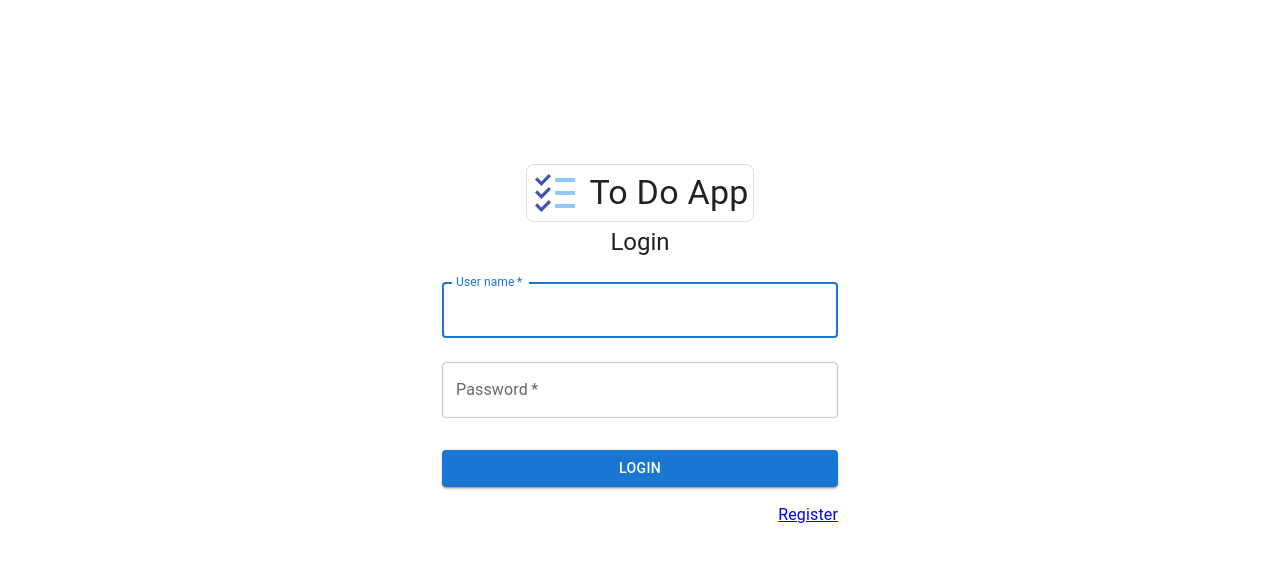
it: Login Component › should return error message when username or password is missing
The image size is (1280, 588).
Type "apassword" into the password field labelled "Password *".
click(640, 390); type("apassword")  # box top-left (442, 362), bottom-right (838, 418)
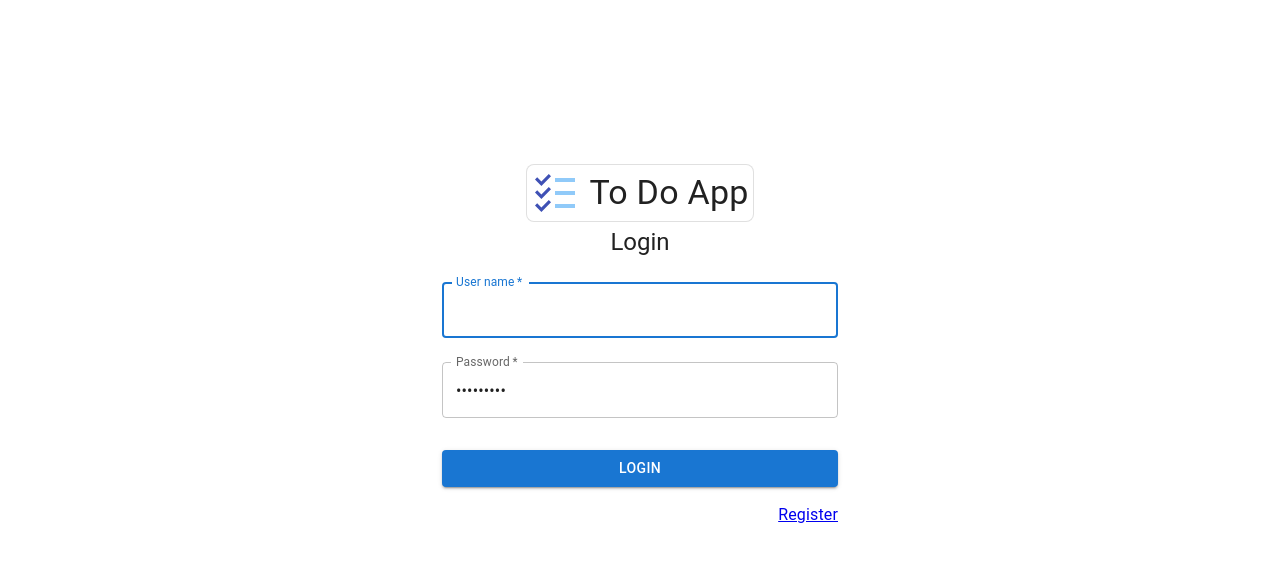
Click the button "Login".
click(640, 468)  # box top-left (442, 450), bottom-right (838, 486)
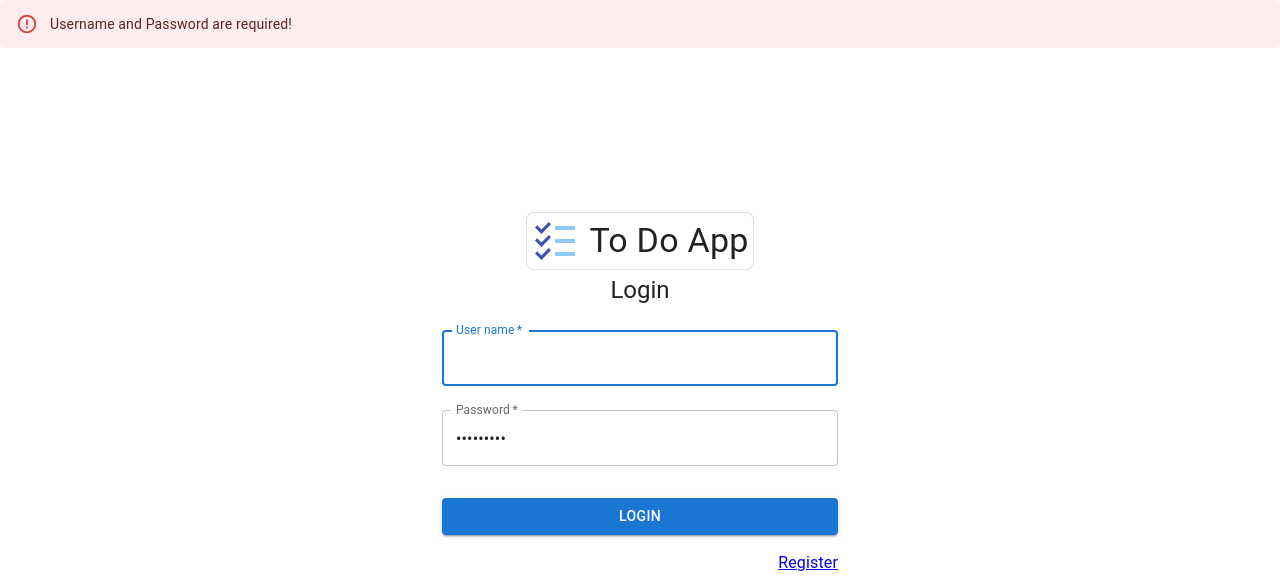
Result: the text "Username and Password are required!" is shown at top-left (50, 16), bottom-right (292, 32)
